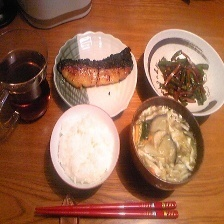rice: (55, 111, 116, 188)
